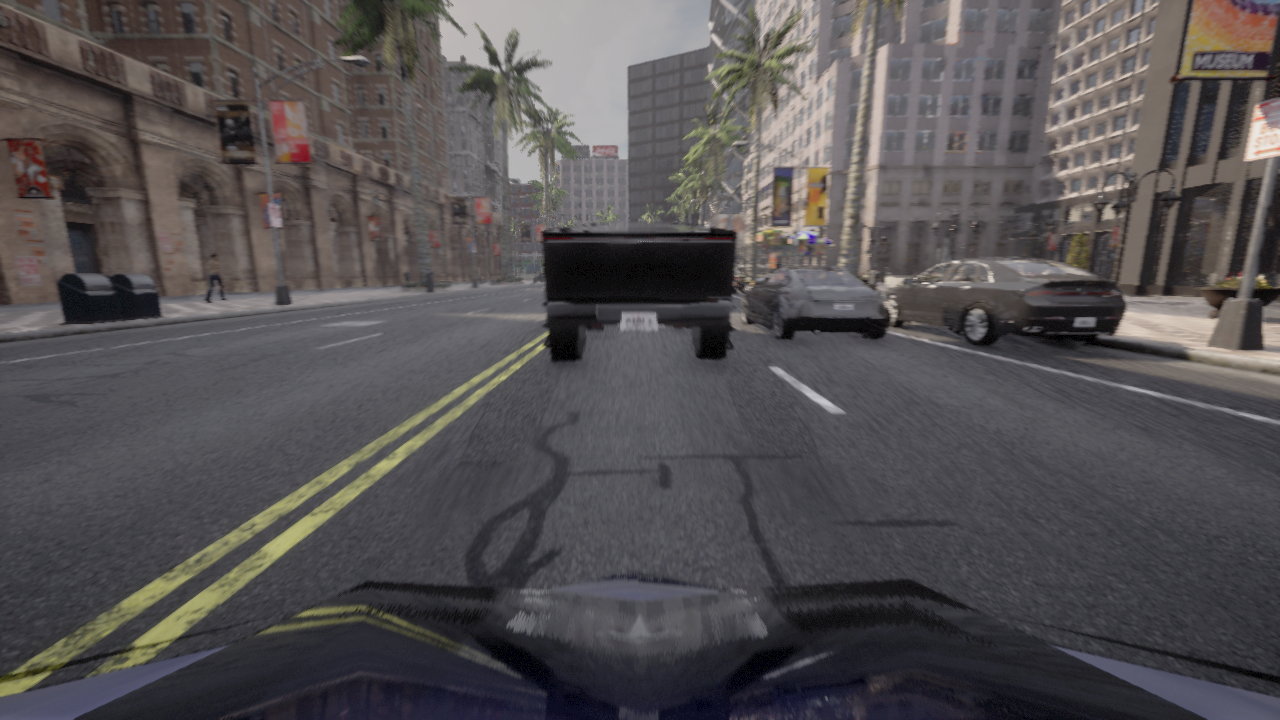cyclist: (0, 569, 1279, 719), (540, 222, 736, 361), (885, 256, 1126, 345), (741, 266, 891, 339), (733, 275, 745, 293), (733, 270, 738, 279)
pedestrian: (206, 253, 228, 301)
